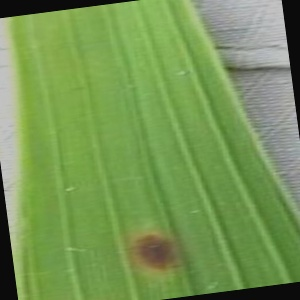Bacterial_Leaf_Blight: (123, 222, 185, 290)
